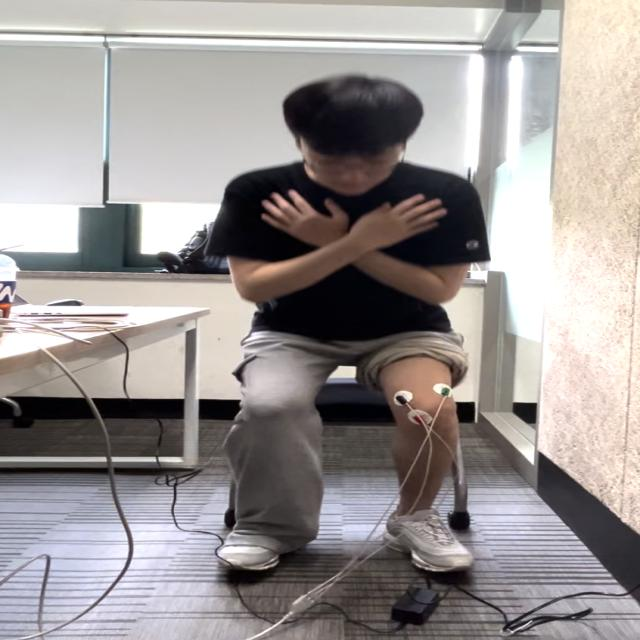stand: (198, 80, 496, 579), (333, 342, 504, 520), (210, 332, 350, 531)
